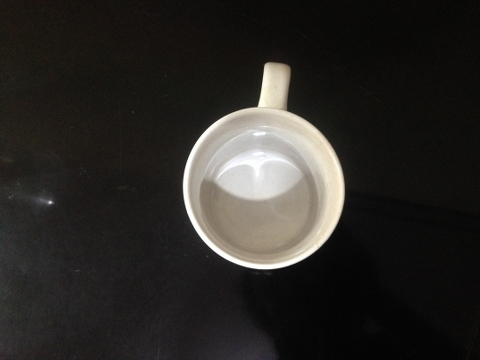tempat minum: (182, 61, 345, 270)
